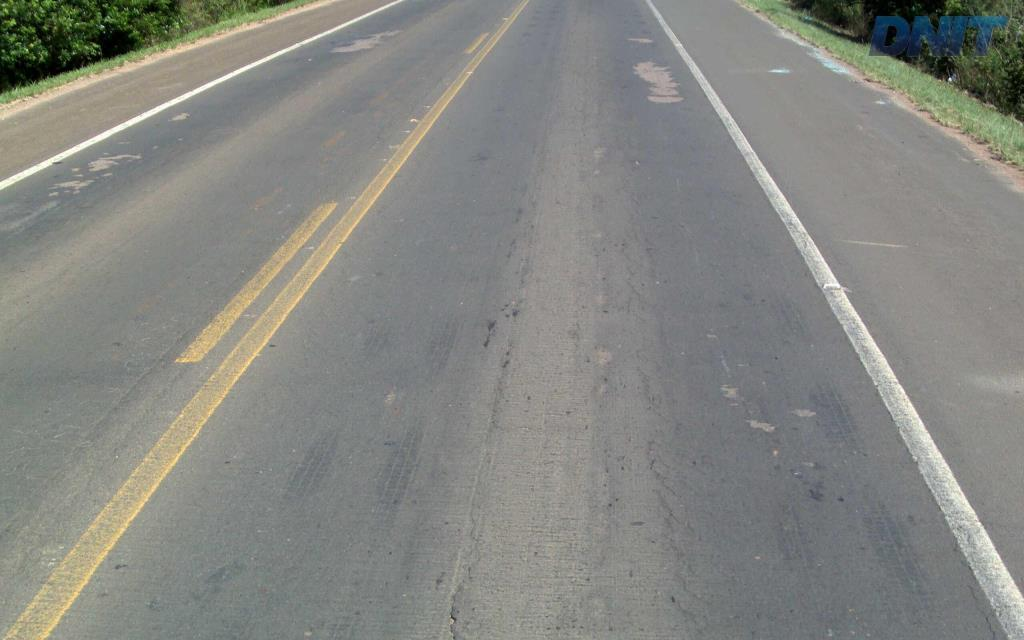pothole: (631, 51, 688, 105), (621, 31, 654, 42)
